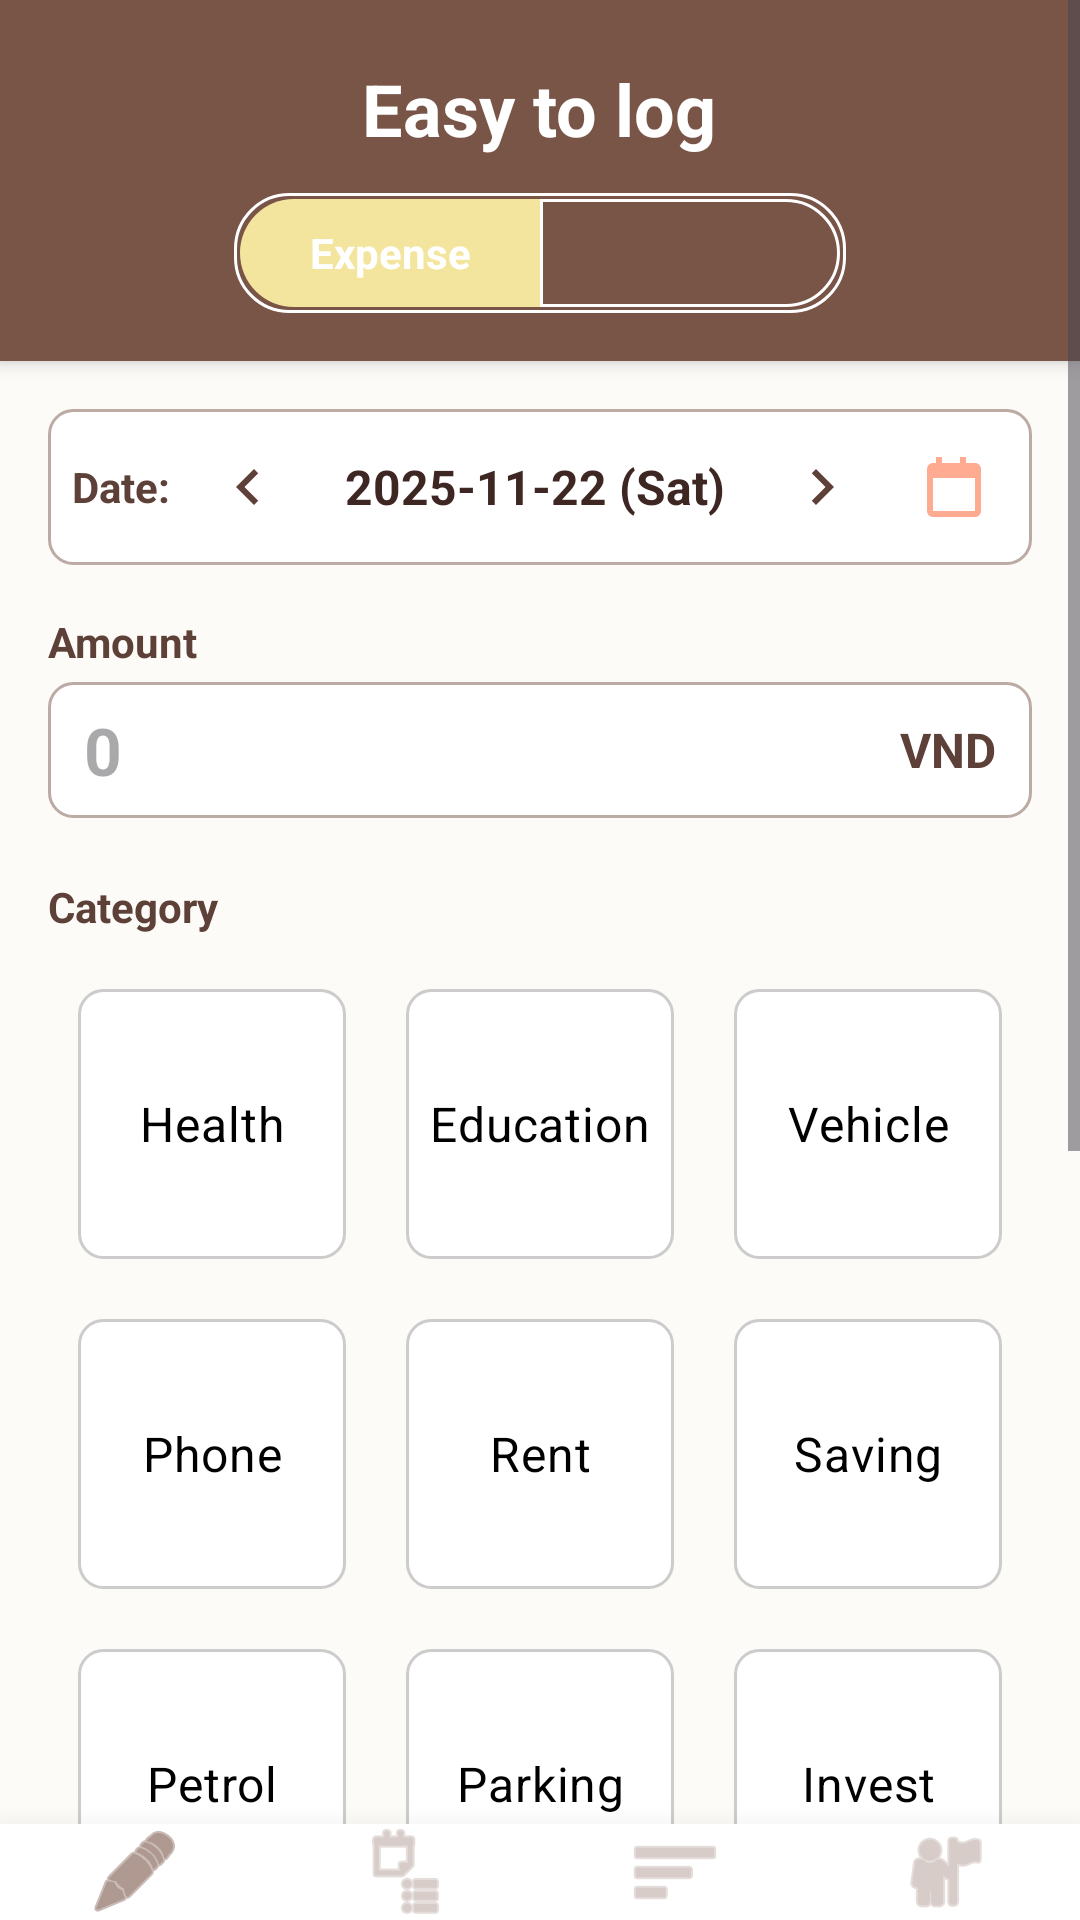

Icons on this 1080px x 1920px Android screen, each with the point to tap as (x=x, y=y):
arrow left: (x=247, y=487)
arrow right: (x=823, y=487)
calendar: (x=954, y=487)
Transactions: (x=405, y=1871)
